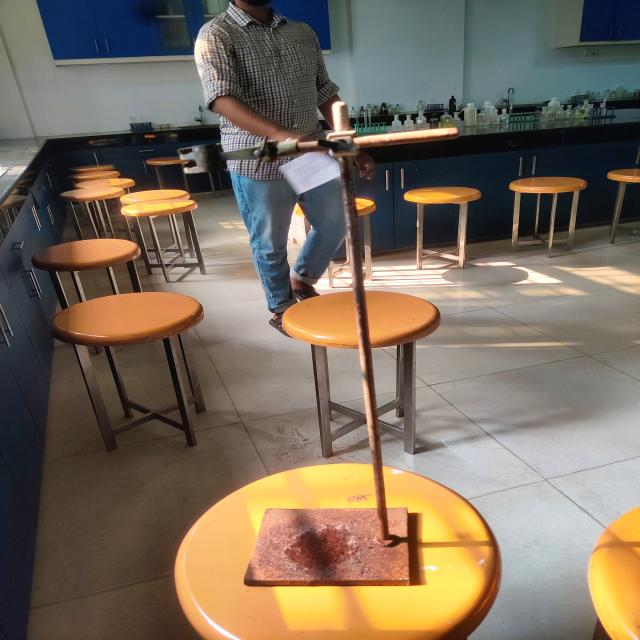Burette_Stands: (184, 104, 470, 599)
